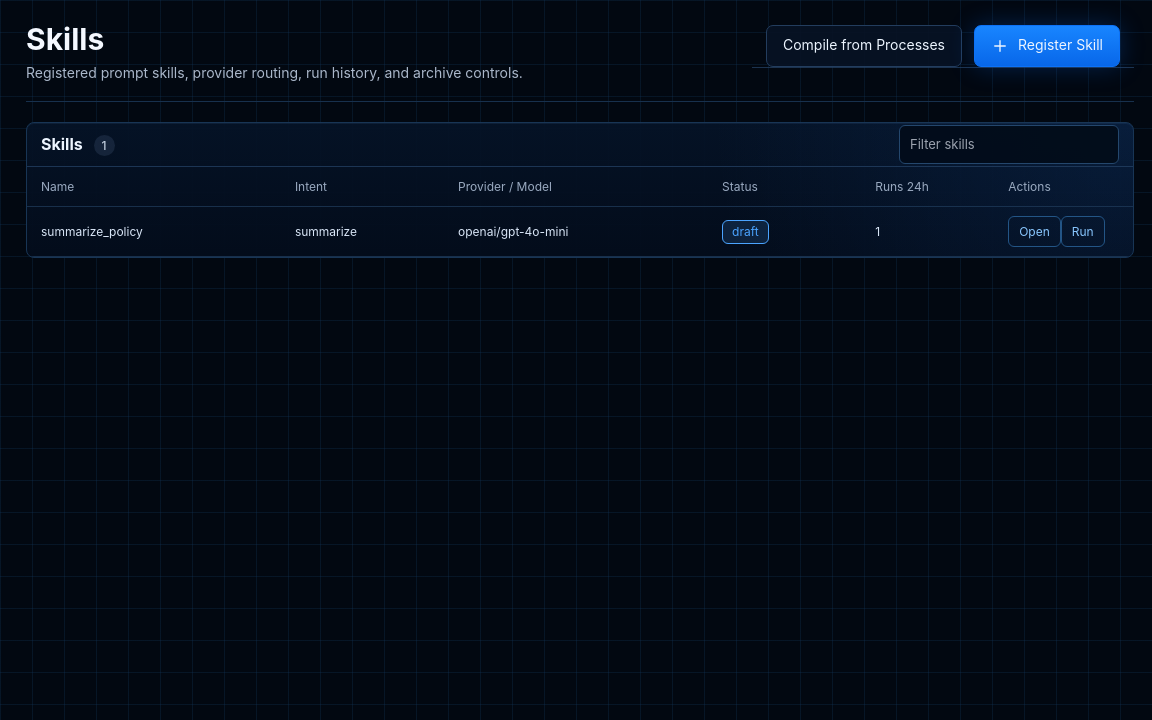
Test case: Phase 13.B UI › run_skill_modal_shows_error_on_failure
The width and height of the screenshot is (1152, 720).
Click the button with aria-label "Run summarize_policy": click(1083, 232) 1061,216 -> 1105,248
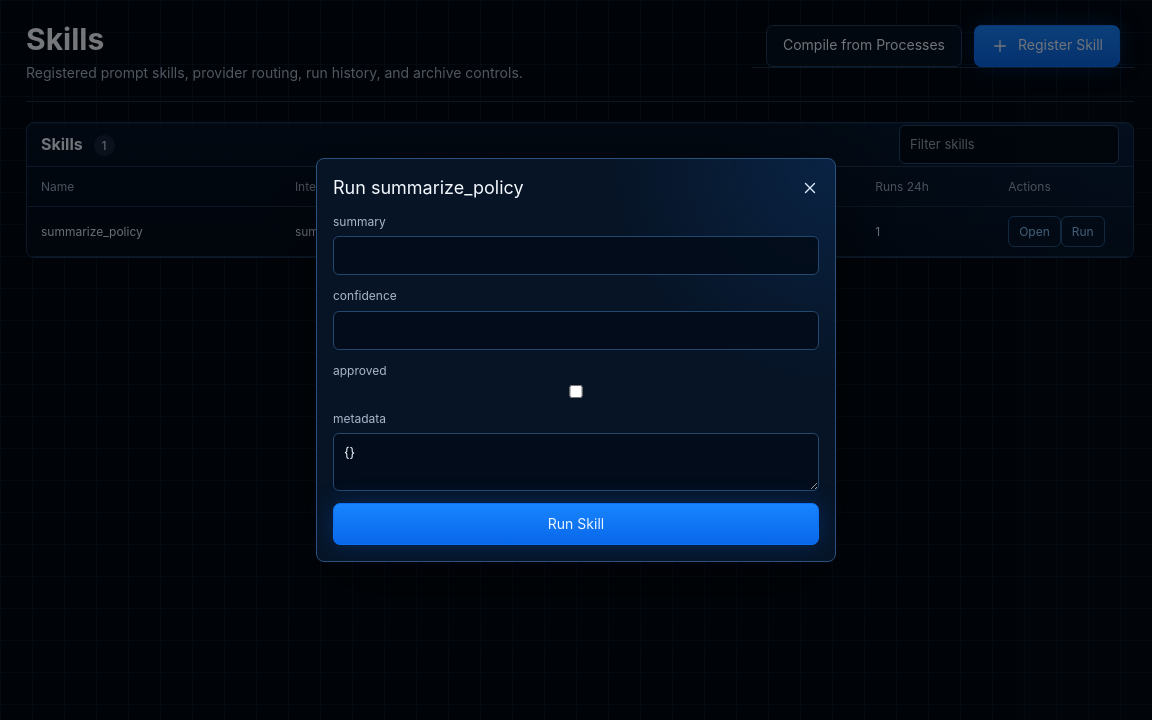
Click the submit button: click(576, 524) 333,503 -> 819,545
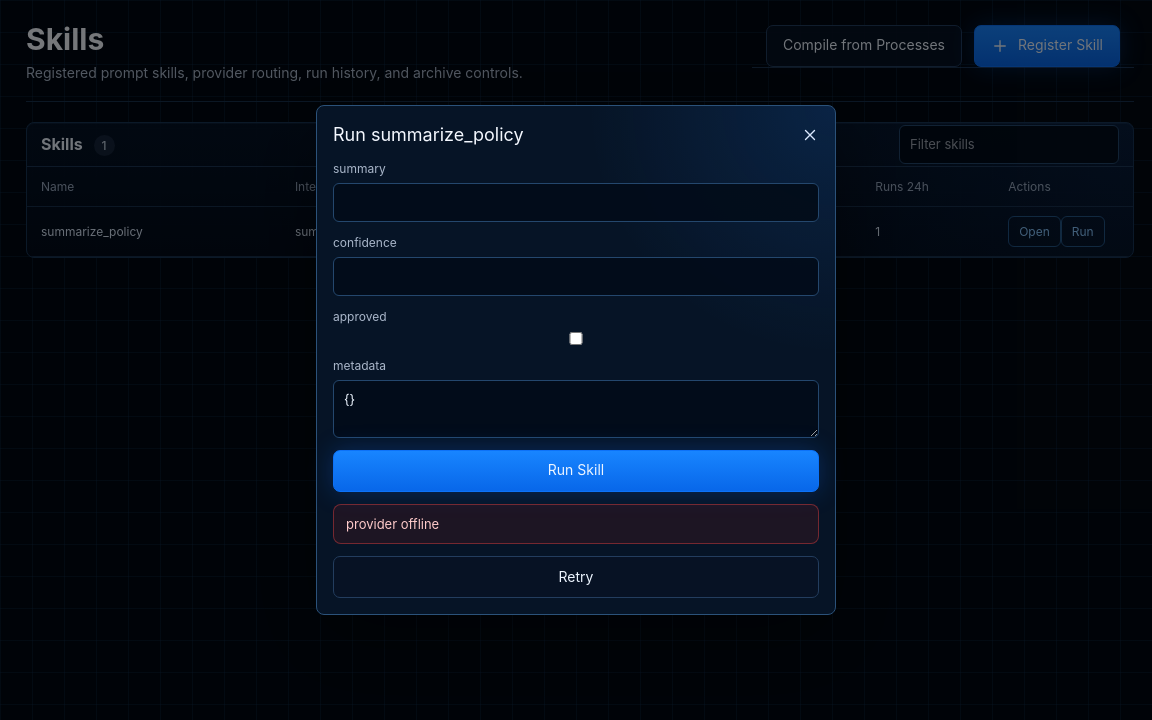
Result: the text "provider offline" is shown at 333,504 -> 819,544
Result: the button "Retry" is shown at 333,556 -> 819,598
